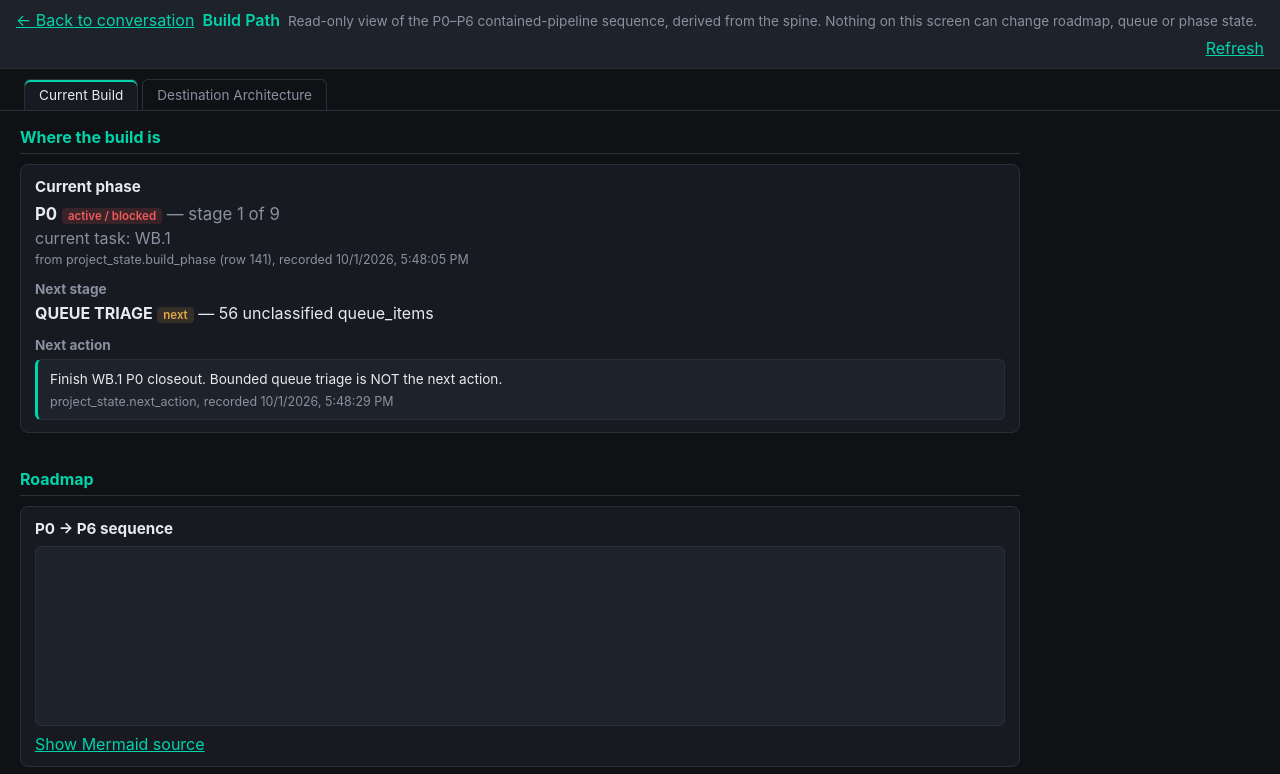
Scenario: BuildPath (read-only build path visualization) › can show the Mermaid source on request even when the diagram drew fine
This screenshot has width=1280, height=774.
Check: the element with test id "bp-diagram" is shown, box [35,546,1005,726]
Click the button "Show Mermaid source" at (120, 744), box [35,734,205,754]
(page scrolled)
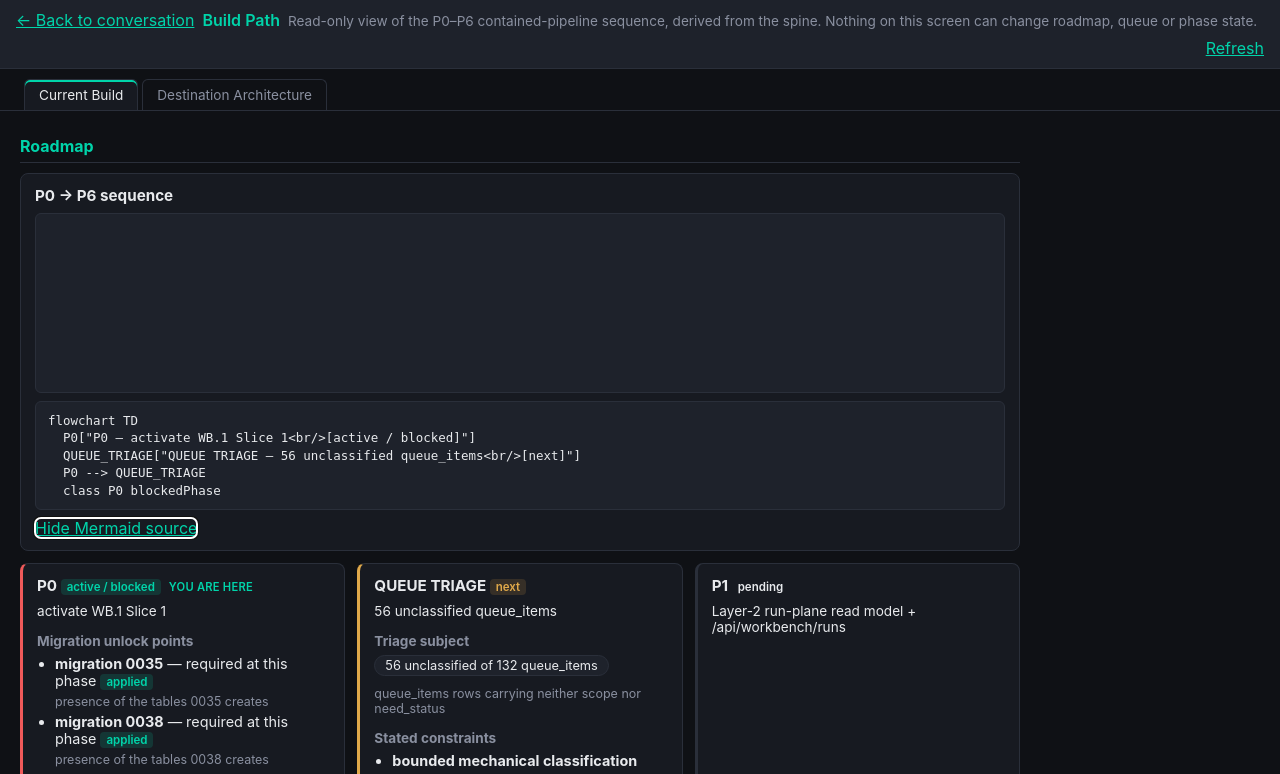
Check: the text with test id "bp-mermaid-source" shows "flowchart TD", box [48,413,581,498]
